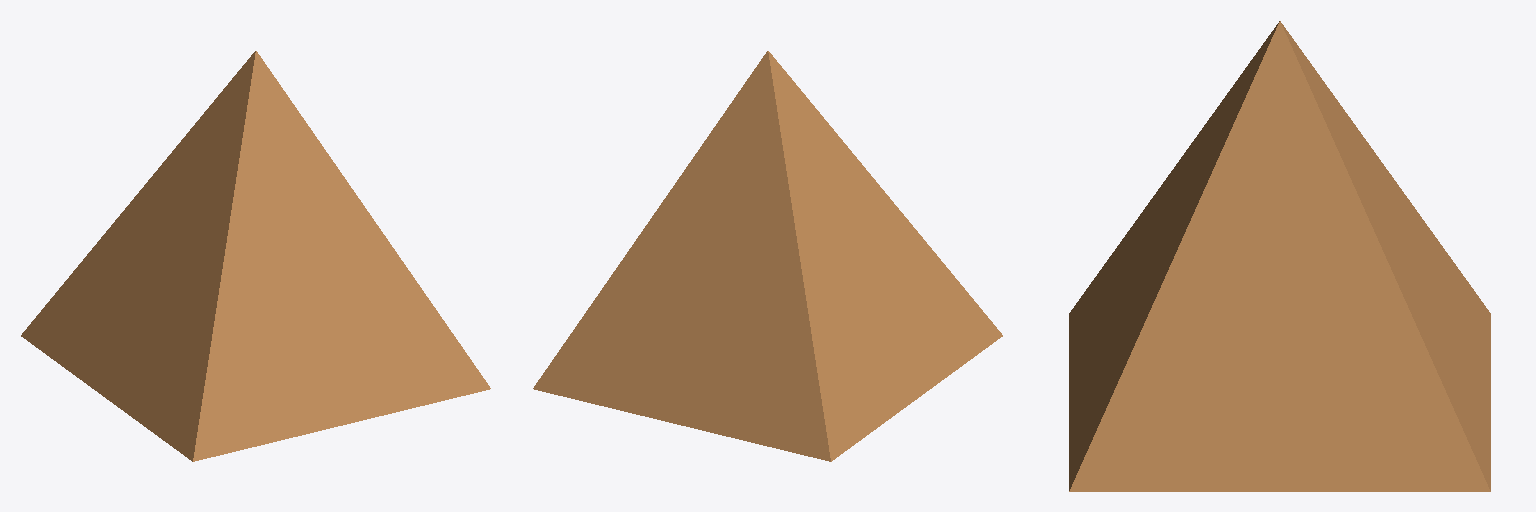
URDF robot description (Pyramid_medium):
<?xml version="1.0"?>
                <robot name="Pyramid_medium">
                <link name="base_link">
                    <visual>
                    <geometry>
                        <mesh filename="top_watertight_tiny.stl" scale="1.0 1.0 1.0"/>
                    </geometry>
                    <material name="object_material">
                        <color rgba="0.8 0.6 0.4 1.0"/>
                    </material>
                    </visual>
                    <collision>
                    <geometry>
                        <mesh filename="top_watertight_tiny.stl" scale="1.0 1.0 1.0"/>
                    </geometry>
                    </collision>
                    <inertial>
                    <mass value="1.0"/>
                    <inertia ixx="1.0" ixy="0.0" ixz="0.0" iyy="1.0" iyz="0.0" izz="1.0"/>
                    </inertial>
                </link>
                </robot>

--- What the picture shows (computed from the rendered views, not written in the file) ---
The picture shows the robot from 3 angles, left to right: view 1: azimuth 30°, elevation 25°; view 2: azimuth 150°, elevation 25°; view 3: azimuth 270°, elevation 25°; orthographic projection.
Model Pyramid_medium with 1 links and 0 joints (none), rooted at base_link, posed all joints at 0.
Visible links, largest first — view 1: base_link; view 2: base_link; view 3: base_link.
Boxes of the visible links, bbox=[...] form: base_link: bbox=[21, 51, 490, 461]; base_link: bbox=[533, 51, 1002, 461]; base_link: bbox=[1069, 21, 1490, 491].
Size in the robot's own frame: 0.0801 by 0.0801 by 0.0801 metres.
1 mesh visuals loaded from 1 distinct referenced files (1 binary STL).